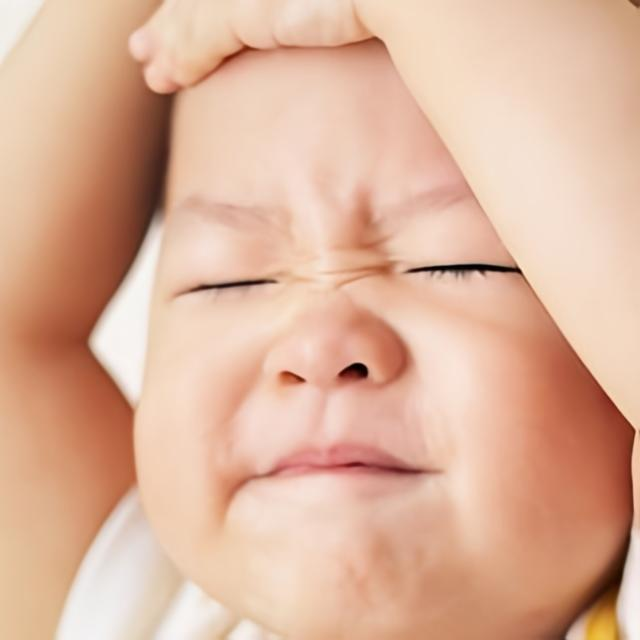anger: (128, 36, 586, 602)
